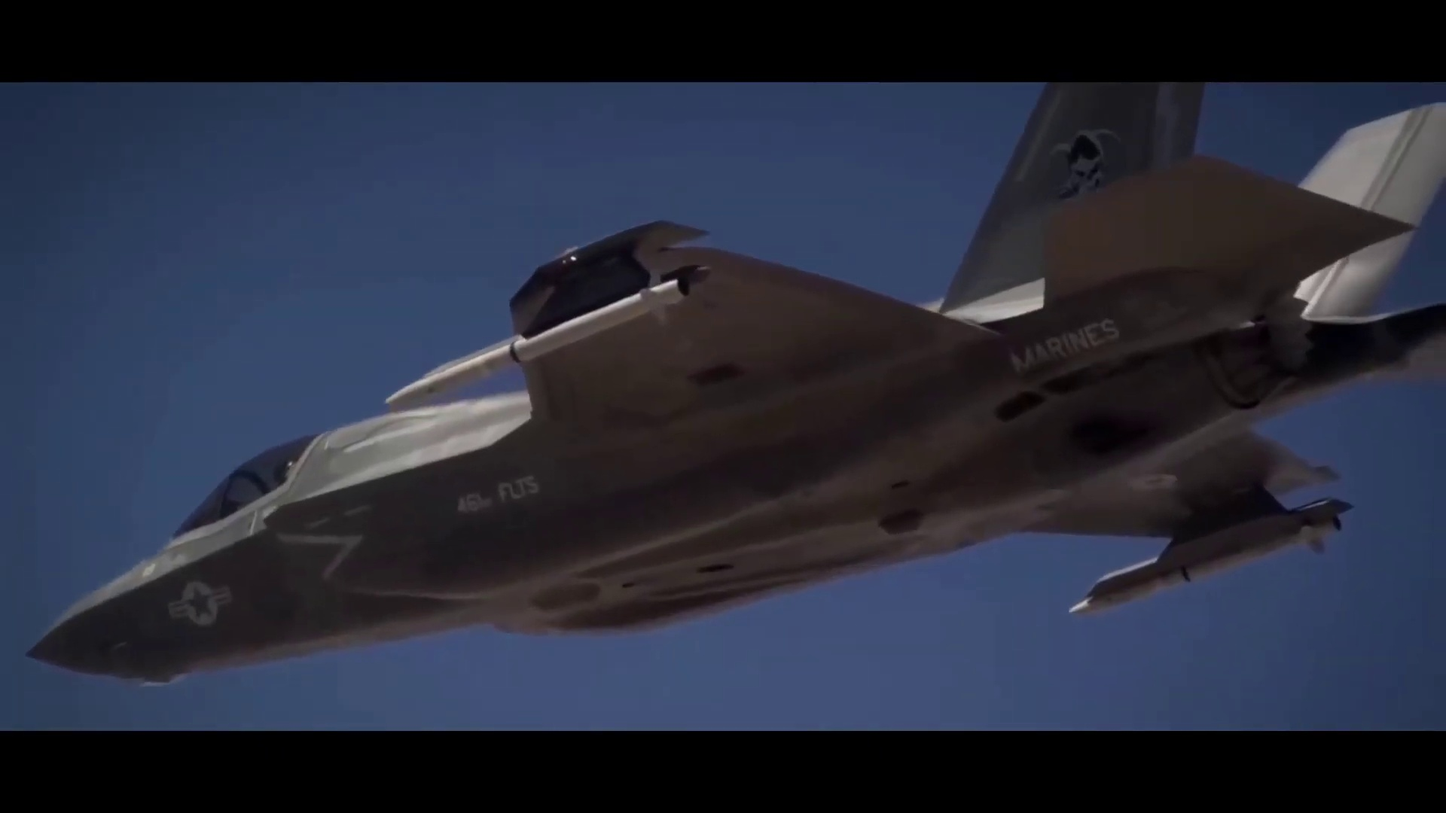F35: (21, 100, 1428, 678)
